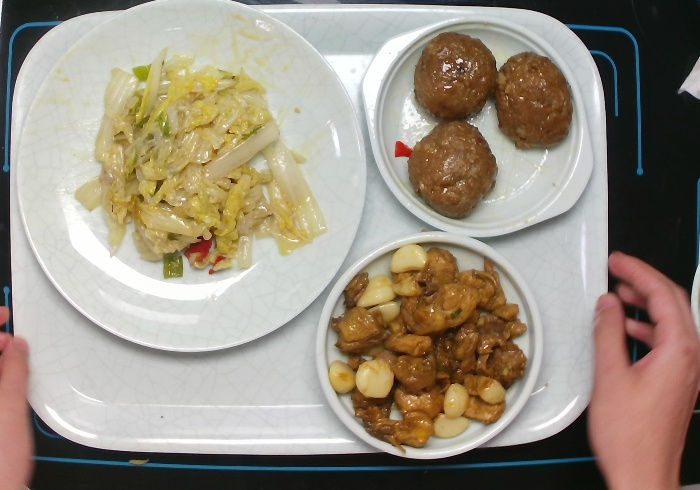JYsf-Da_Yuan_Pan: (14, 1, 369, 352)
JYsf-Shuang_Er_Pan: (357, 12, 595, 240)
JYsf-Xiao_Yuan_Pan: (314, 230, 545, 461)
